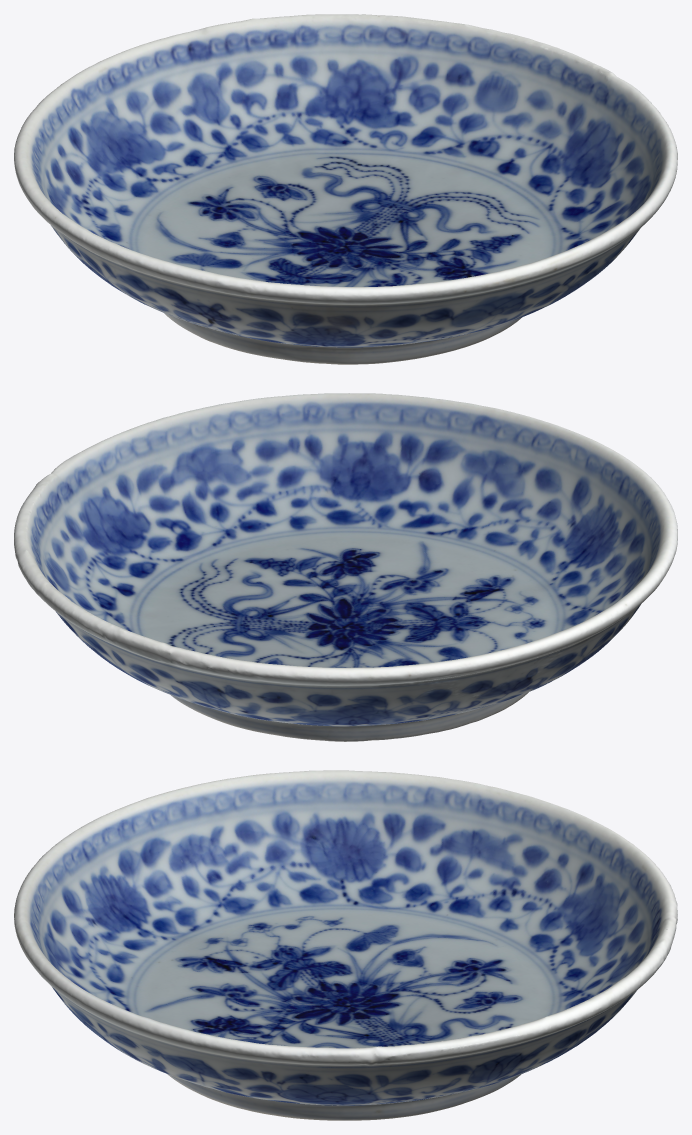
The model's file is dish.glb.
The picture shows the model from 3 angles, top to bottom: view 1: azimuth 30°, elevation 25°; view 2: azimuth 150°, elevation 25°; view 3: azimuth 270°, elevation 25°; orthographic projection.
Size of the model in its own units: 0.2003 by 0.0444 by 0.2003.
Materials: 1 (1 with a texture image).
